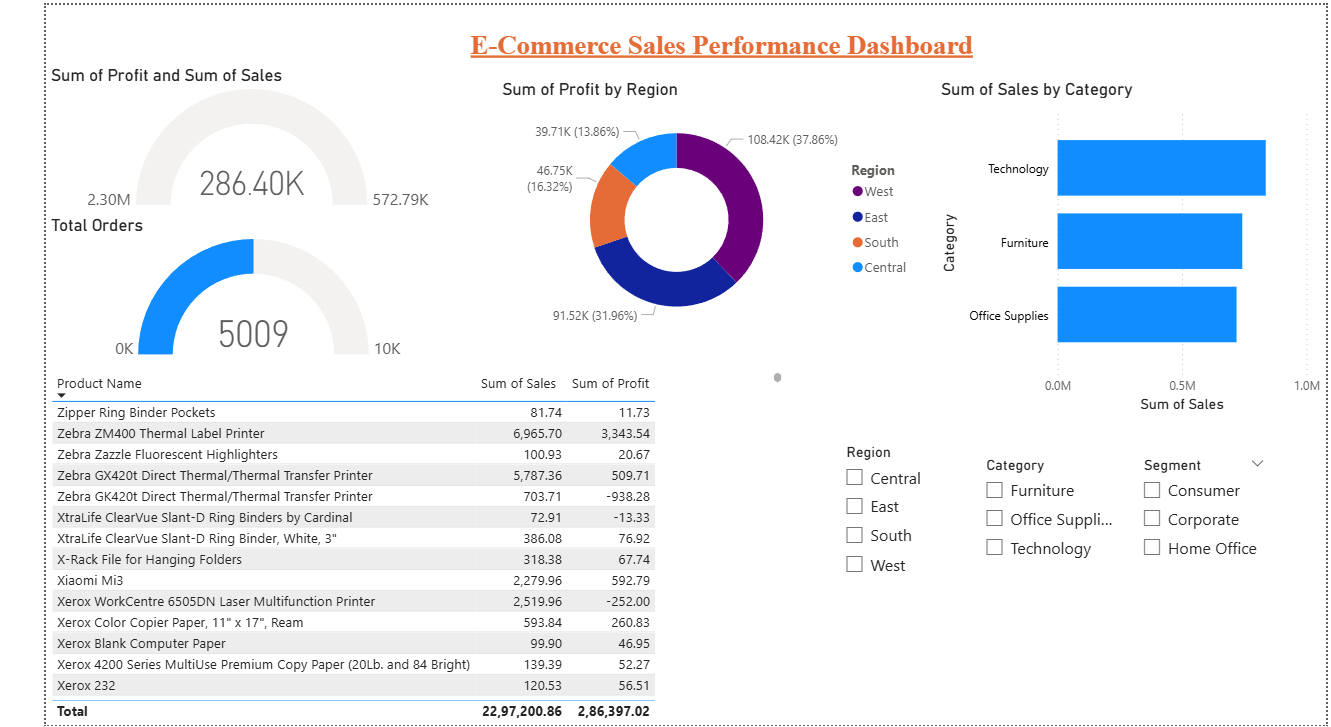

The page's visual inventory and layout, read from the dashboard file:
{"tool":"powerbi","page":{"name":"Page 1-Commerce Sales Performance Dashboard","canvas":[1280,720],"ordinal":0},"visuals":[{"type":"clusteredBarChart","fields":{"Category":["Sample - Superstore.Category"],"Y":["Sum(Sample - Superstore.Sales)"]},"box":[662.5,73.8,617.5,338.8],"z":0},{"type":"donutChart","fields":{"Category":["Sample - Superstore.Region"],"Y":["Sum(Sample - Superstore.Profit)"]},"box":[25,73.8,582.5,263.8],"z":1000},{"type":"tableEx","fields":{"Values":["Sample - Superstore.Product Name","Sum(Sample - Superstore.Sales)","Sum(Sample - Superstore.Profit)"]},"box":[0,362.3,741,358.1],"z":2000},{"type":"slicer","fields":{"Values":["Sample - Superstore.Region"]},"box":[701.2,440,140,157.5],"z":3000},{"type":"slicer","fields":{"Values":["Sample - Superstore.Category"]},"box":[880,446.2,145,160],"z":4000},{"type":"slicer","fields":{"Values":["Sample - Superstore.Segment"]},"box":[1085.4,446,145.5,145.5],"z":5000},{"type":"textbox","box":[351.3,20.6,649.1,53.5],"z":6000}]}

Visuals, with their boxes in screenshot pixels (x1, y1, x2, y2), scaled from the page's 1280x720 canvas onto the 1331x727 screenshot:
clusteredBarChart - Sample - Superstore.Category x Sum(Sample - Superstore.Sales): select_region(689, 75, 1330, 417)
donutChart - Sample - Superstore.Region x Sum(Sample - Superstore.Profit): select_region(26, 75, 632, 341)
tableEx - Sample - Superstore.Product Name x Sum(Sample - Superstore.Sales): select_region(0, 366, 771, 726)
slicer - Sample - Superstore.Region: select_region(729, 444, 875, 603)
slicer - Sample - Superstore.Category: select_region(915, 451, 1066, 612)
slicer - Sample - Superstore.Segment: select_region(1129, 450, 1280, 597)
textbox: select_region(365, 21, 1040, 75)
